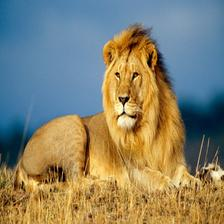Lion: (24, 21, 200, 190)
